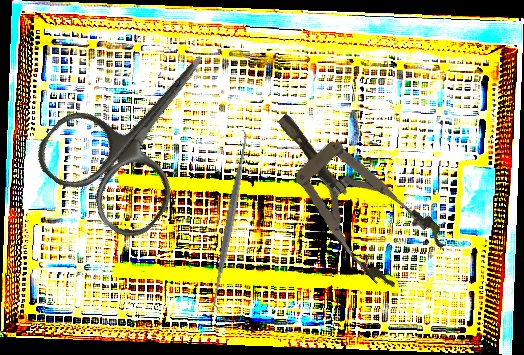Iris Scissors: (27, 13, 256, 248)
Spatula Surgical: (203, 129, 258, 313)
Speculum: (251, 88, 451, 297)
